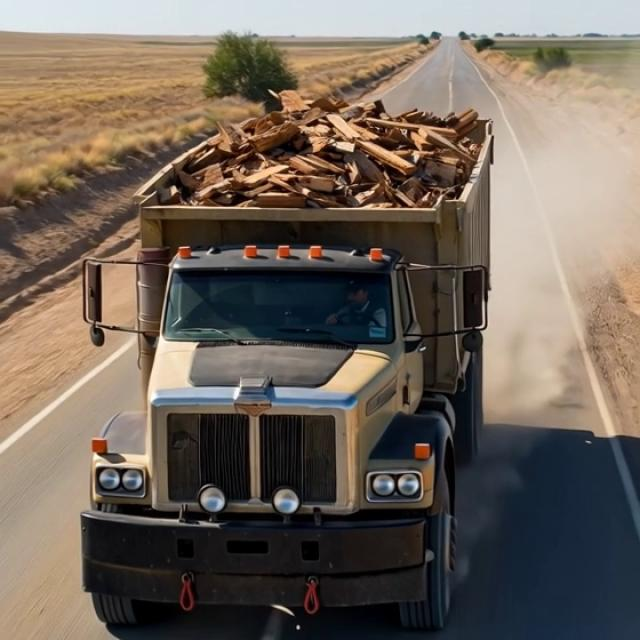Box: (136, 92, 498, 240)
Truck: (72, 73, 498, 603)
